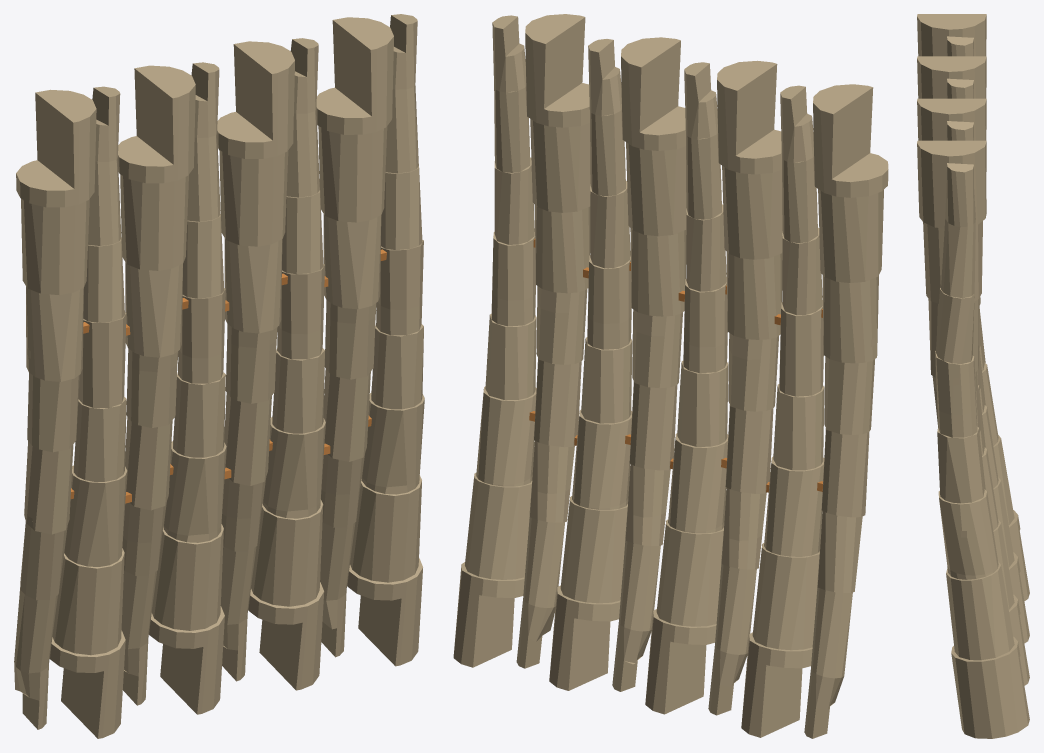
File: sciana_drzwi_flip.fbx
The picture shows the model from 3 angles, left to right: view 1: azimuth 30°, elevation 25°; view 2: azimuth 150°, elevation 25°; view 3: azimuth 270°, elevation 25°; orthographic projection. The views are drawn at different scales.
Visible parts, largest first — view 1: sciana.003, sciana_drzwi, branch1.003, branch1_drzwi; view 2: sciana.003, sciana_drzwi, branch1.003, branch1_drzwi; view 3: sciana.003, branch1.003, branch1_drzwi, sciana_drzwi.
Part boxes in pixels (<box>): sciana.003: <box>14,17,393,738</box>; sciana_drzwi: <box>123,315,375,543</box>; branch1.003: <box>347,14,423,666</box>; branch1_drzwi: <box>362,299,424,487</box>; sciana.003: <box>516,14,888,738</box>; sciana_drzwi: <box>529,302,778,540</box>; branch1.003: <box>453,15,535,667</box>; branch1_drzwi: <box>476,290,536,485</box>; sciana.003: <box>917,14,1029,685</box>; branch1.003: <box>935,163,1029,738</box>; branch1_drzwi: <box>937,406,998,575</box>; sciana_drzwi: <box>934,323,998,528</box>.
Size of the model in its own units: 255 by 380 by 68.66.
